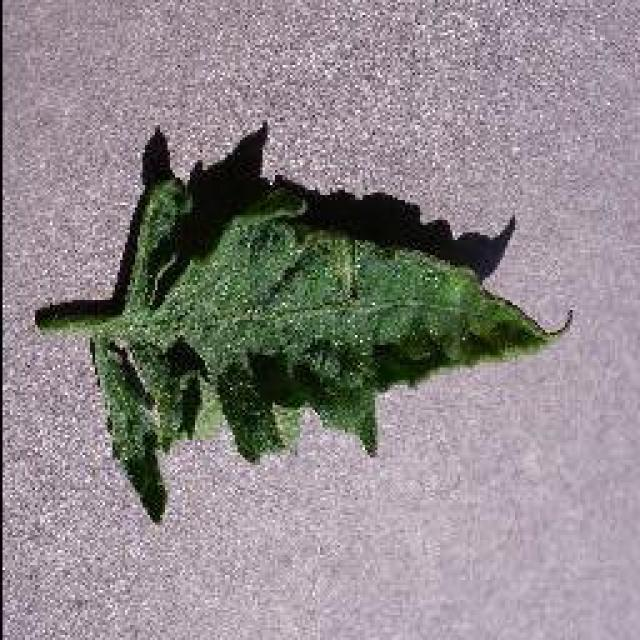Tomato___Tomato_mosaic_virus: (35, 172, 548, 520)
